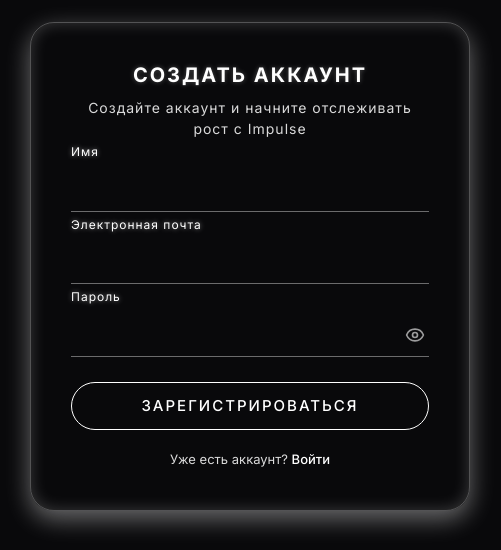
SignUp › shows success screen after successful registration
The image size is (501, 550).
In the field labelled "Имя": (250, 188) [71,164,429,212], type "Ivan Petrov"
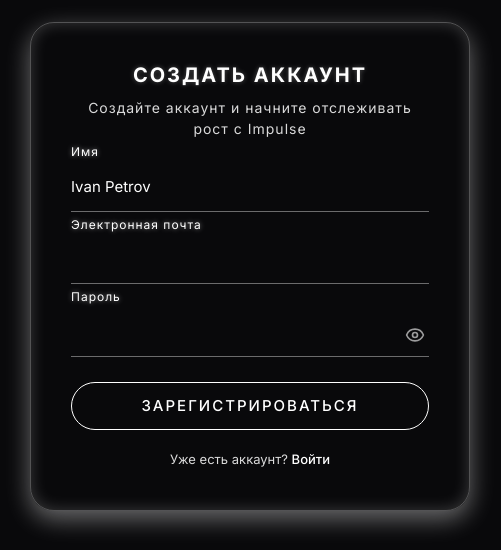
In the field labelled "Электронная почта": (250, 260) [71,236,429,284], type "user@example.com"
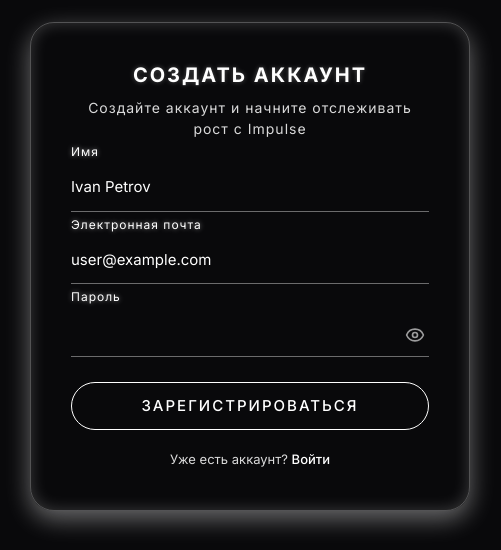
In the password field labelled "Пароль": (250, 333) [71,309,429,356], type "password123"
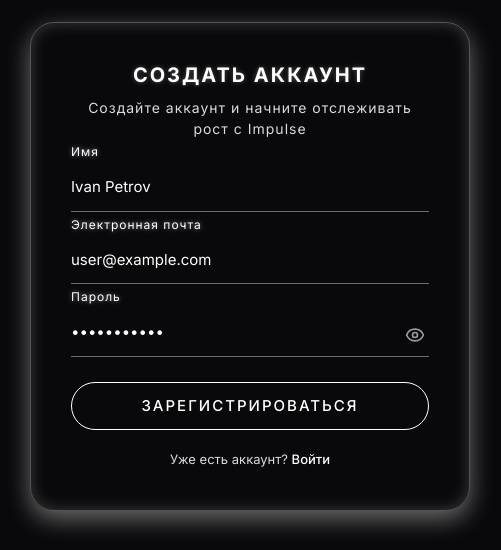
Submit the form labelled "Электронная почта", box [71,164,429,430]
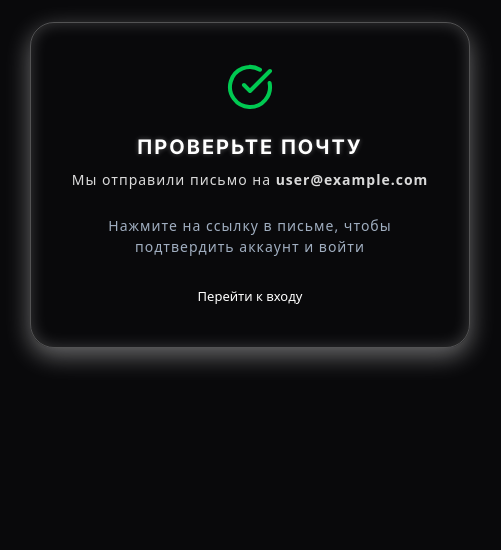
Now the heading "ПРОВЕРЬТЕ ПОЧТУ" is shown, box [137,135,363,159]
Now the text "user@example.com" is shown, box [276,170,428,189]
Now the link "Перейти к входу" is shown, box [198,287,302,305]
